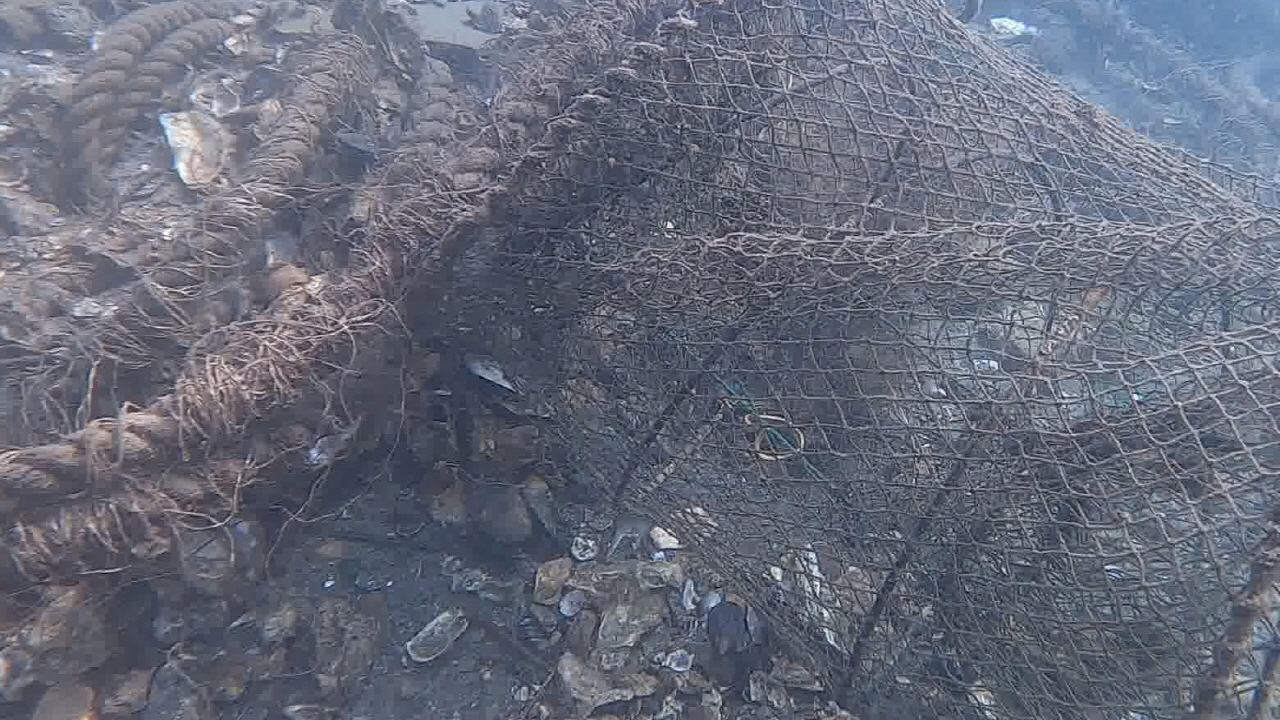bundle of ropes: (244, 57, 558, 191), (62, 0, 236, 181)
rope: (0, 393, 179, 502)
